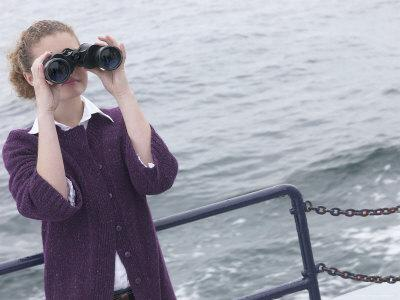person: (3, 22, 179, 300)
